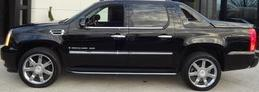backlight: (247, 25, 258, 56)
side_glass: (83, 3, 212, 31)
